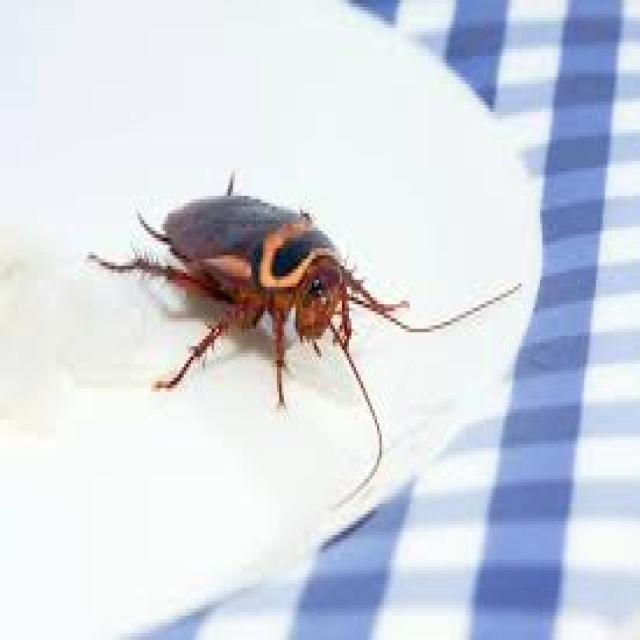Cockroach: (88, 158, 414, 402)
